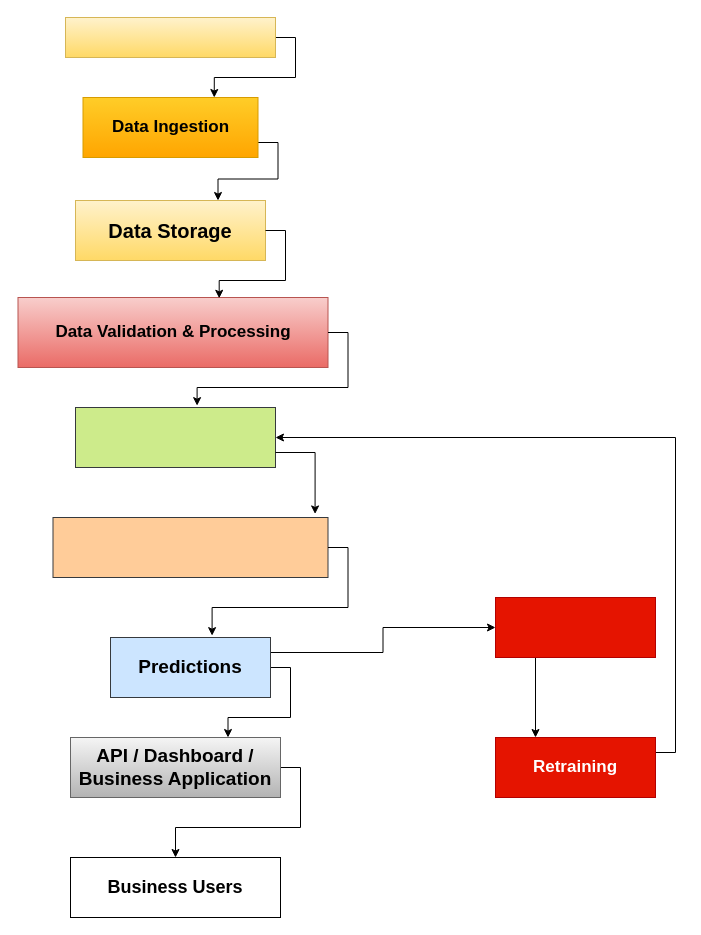
Some shapes in this 701 by 935 pixel diagram are drawn without their labels. The shapes that lost their labels are listed below. From the top down, each one's box as (x1, y1, x2, y2) in pixels, then its label:
(64, 16, 276, 58): Data Sources
(74, 406, 276, 468): Model Training
(52, 516, 328, 578): Demand Forecasting Model
(494, 596, 656, 658): Monitoring
